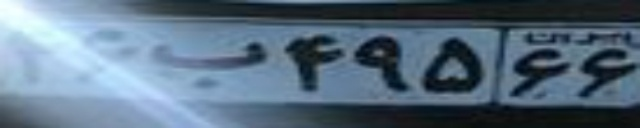4: (282, 34, 345, 93), (4, 28, 60, 87)
5: (417, 36, 487, 93)
6: (66, 29, 137, 87), (506, 45, 569, 98), (577, 45, 634, 101)
9: (352, 35, 410, 94)
be: (149, 39, 265, 92)
